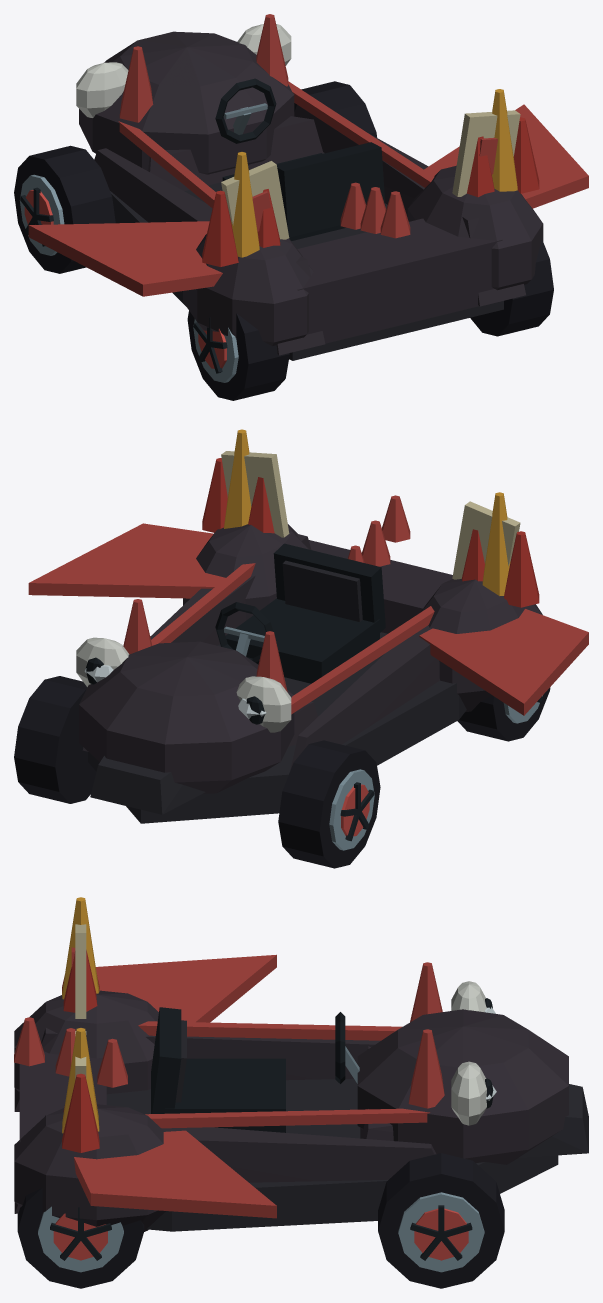
Rendered from kart.glb.
3 renders of one model, top to bottom at view 1: azimuth 30°, elevation 25°; view 2: azimuth 150°, elevation 25°; view 3: azimuth 270°, elevation 25°, orthographic. The views are drawn at different scales.
Visible parts, largest first — view 1: identity-dragon-dragon-sculpted-prow-and-haunches, identity-dragon-driver-cockpit, identity-dragon-motif-fire, wheel-front-left, wheel-rear-left, identity-dragon-motif-cards, wheel-rear-right, identity-dragon-motif-eyes, wheel-front-right; view 2: identity-dragon-dragon-sculpted-prow-and-haunches, identity-dragon-driver-cockpit, wheel-front-left, identity-dragon-motif-fire, wheel-front-right, identity-dragon-motif-cards, identity-dragon-motif-eyes, wheel-rear-left; view 3: identity-dragon-dragon-sculpted-prow-and-haunches, wheel-front-right, identity-dragon-driver-cockpit, wheel-rear-right, identity-dragon-motif-fire, identity-dragon-motif-eyes, identity-dragon-motif-cards.
Part boxes in pixels (left/top/right/bottom): identity-dragon-dragon-sculpted-prow-and-haunches: left=28, top=14, right=588, bottom=360; identity-dragon-driver-cockpit: left=215, top=78, right=385, bottom=240; identity-dragon-motif-fire: left=202, top=89, right=539, bottom=266; wheel-front-left: left=14, top=145, right=115, bottom=273; wheel-rear-left: left=187, top=311, right=289, bottom=400; identity-dragon-motif-cards: left=221, top=110, right=520, bottom=239; wheel-rear-right: left=470, top=239, right=553, bottom=336; identity-dragon-motif-eyes: left=76, top=24, right=291, bottom=117; wheel-front-right: left=294, top=81, right=377, bottom=137; identity-dragon-dragon-sculpted-prow-and-haunches: left=28, top=495, right=588, bottom=823; identity-dragon-driver-cockpit: left=215, top=543, right=385, bottom=683; wheel-front-left: left=278, top=740, right=380, bottom=868; identity-dragon-motif-fire: left=202, top=429, right=539, bottom=607; wheel-front-right: left=14, top=676, right=96, bottom=803; identity-dragon-motif-cards: left=221, top=451, right=520, bottom=579; identity-dragon-motif-eyes: left=76, top=637, right=291, bottom=732; wheel-rear-left: left=457, top=687, right=550, bottom=741; identity-dragon-dragon-sculpted-prow-and-haunches: left=14, top=954, right=588, bottom=1231; wheel-front-right: left=378, top=1153, right=504, bottom=1288; identity-dragon-driver-cockpit: left=151, top=1007, right=359, bottom=1132; wheel-rear-right: left=17, top=1188, right=144, bottom=1288; identity-dragon-motif-fire: left=62, top=897, right=99, bottom=1152; identity-dragon-motif-eyes: left=451, top=981, right=493, bottom=1125; identity-dragon-motif-cards: left=71, top=924, right=86, bottom=1079.
Bounding box in the file's own units: 3 × 1.37 × 2.9.
